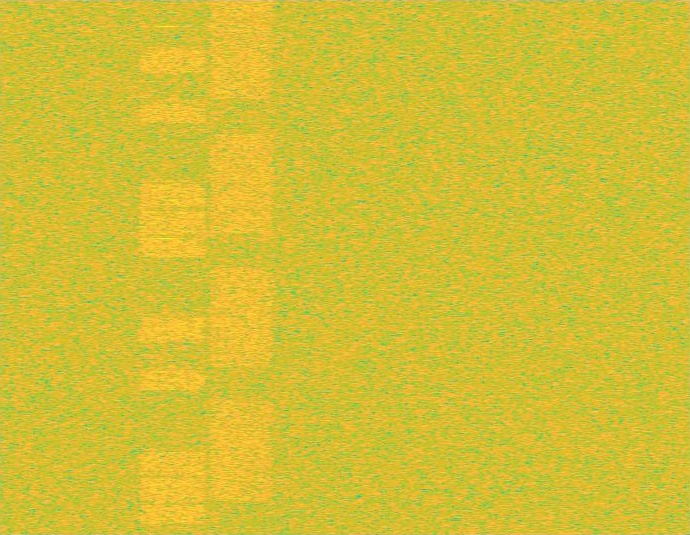5G: (207, 0, 276, 534)
LTE: (138, 0, 207, 534)
Radar: (159, 0, 172, 534)
